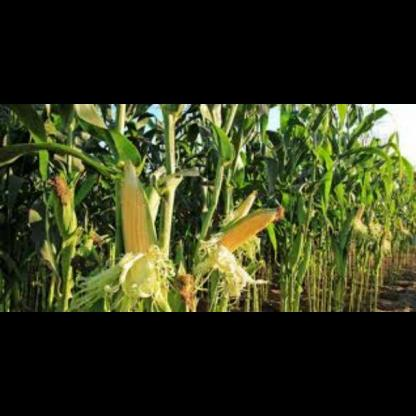corn: (106, 148, 172, 297), (200, 183, 291, 270)
